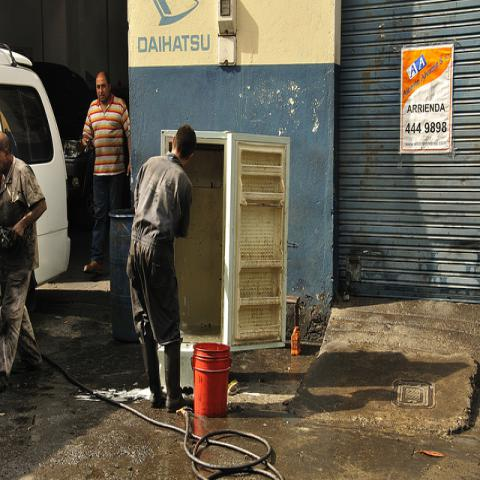car: (0, 45, 70, 288), (33, 61, 94, 230)
